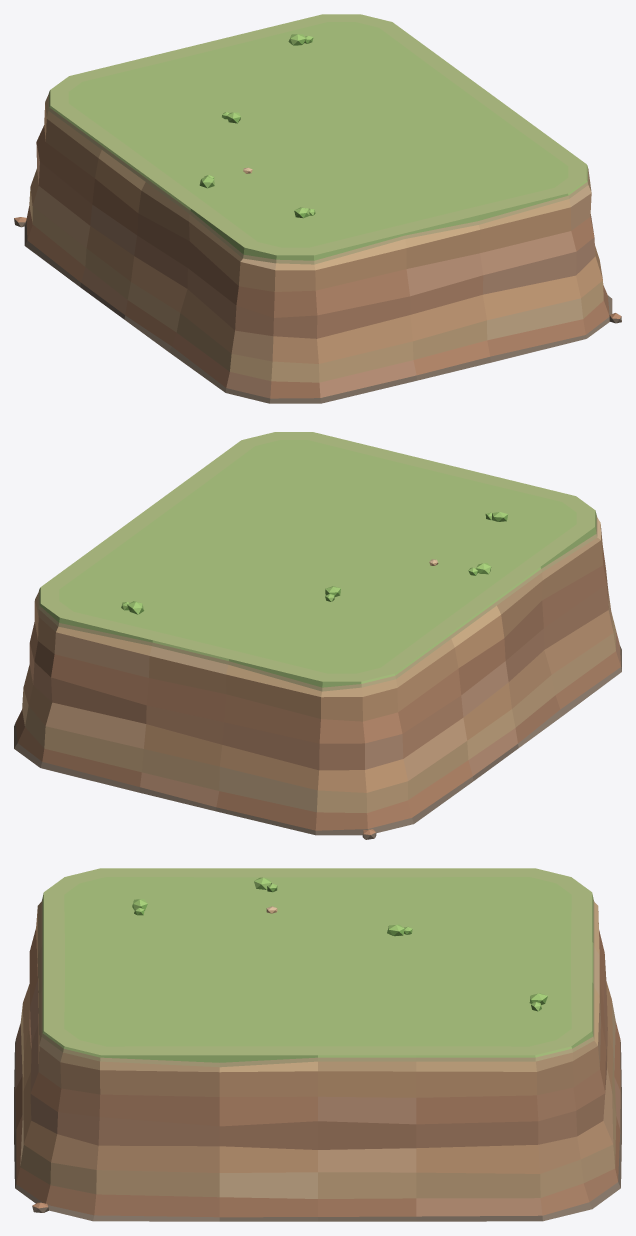
The model's file is mesa-b.glb.
3 renders of one model, top to bottom at view 1: azimuth 30°, elevation 25°; view 2: azimuth 150°, elevation 25°; view 3: azimuth 270°, elevation 25°, orthographic. The views are drawn at different scales.
Visible parts, largest first — view 1: mesa-b; view 2: mesa-b; view 3: mesa-b.
Boxes of the visible parts, <box> form: mesa-b: <box>14,14,621,403</box>; mesa-b: <box>14,432,621,839</box>; mesa-b: <box>14,868,621,1221</box>.
Size of the model in its own units: 142 by 51.31 by 172.
